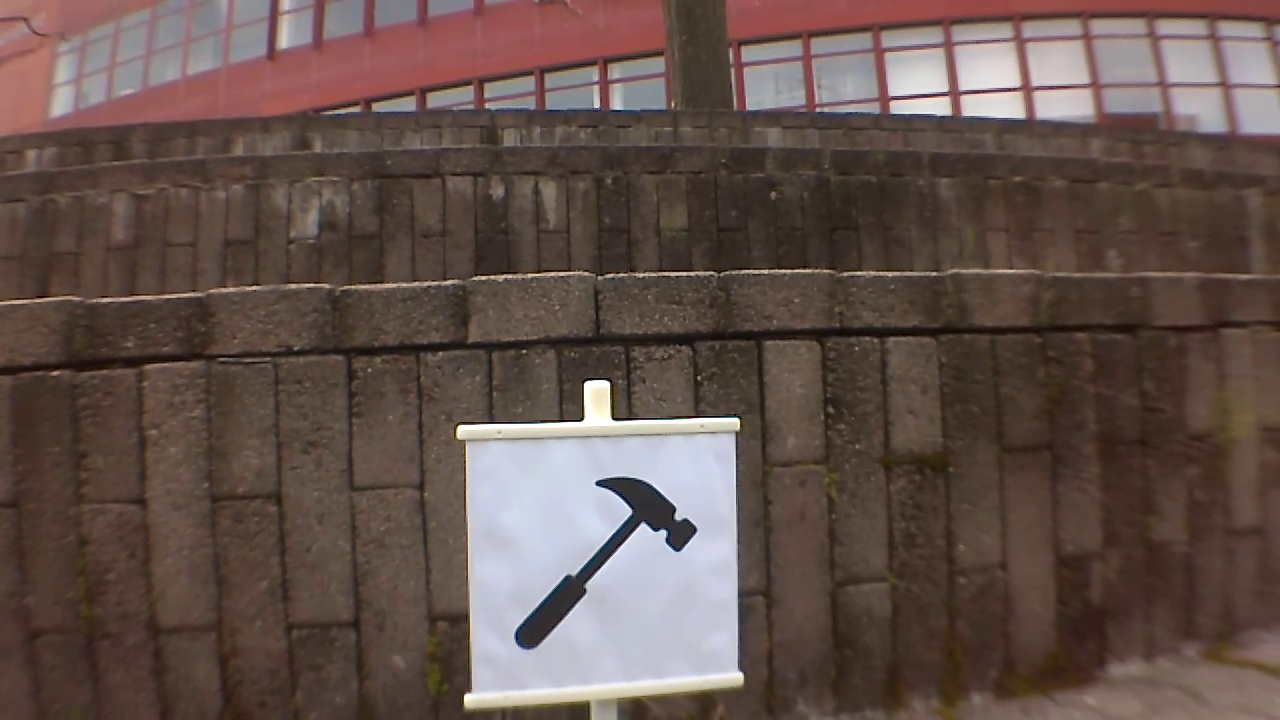hammer: (512, 462, 708, 647)
